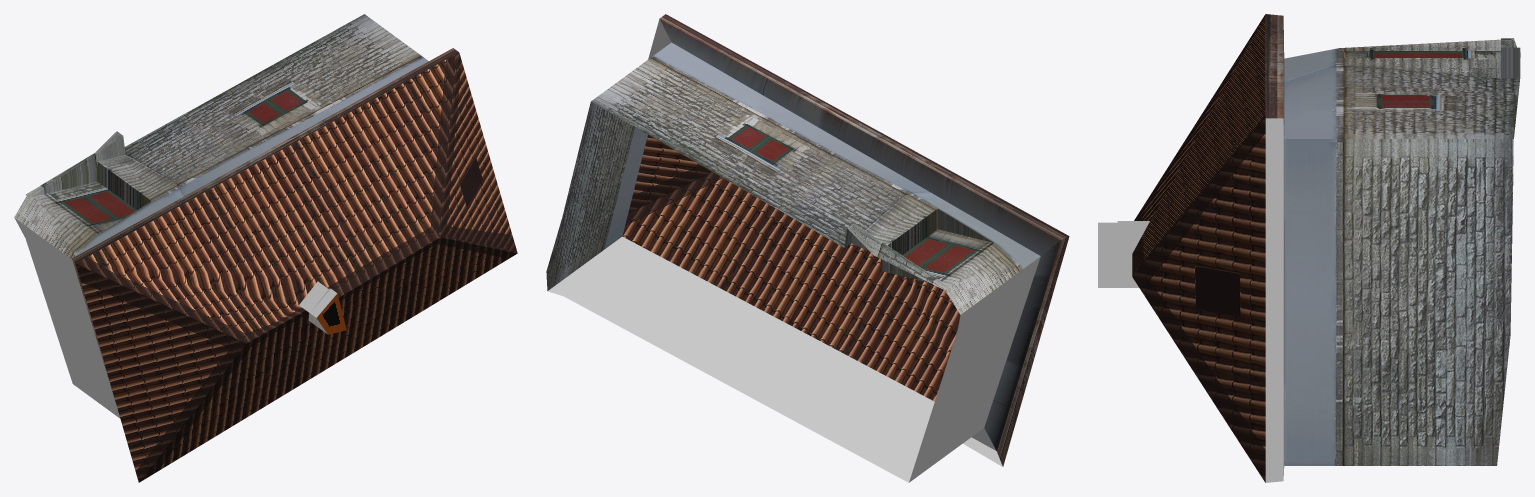
File: Toompuiestee_22a-origo.obj
3 views of the same model, side by side, from view 1: azimuth 30°, elevation 25°; view 2: azimuth 150°, elevation 25°; view 3: azimuth 270°, elevation 25° (orthographic). The views are drawn at different scales.
Parts seen in each view (by area): view 1: Toompuiestee_22a; view 2: Toompuiestee_22a; view 3: Toompuiestee_22a.
Part boxes in pixels (bbox=[...]): Toompuiestee_22a: bbox=[14, 14, 517, 482]; Toompuiestee_22a: bbox=[546, 14, 1069, 482]; Toompuiestee_22a: bbox=[1098, 14, 1520, 482].
Bounding box in the file's own units: 11.81 × 9 × 6.54.
